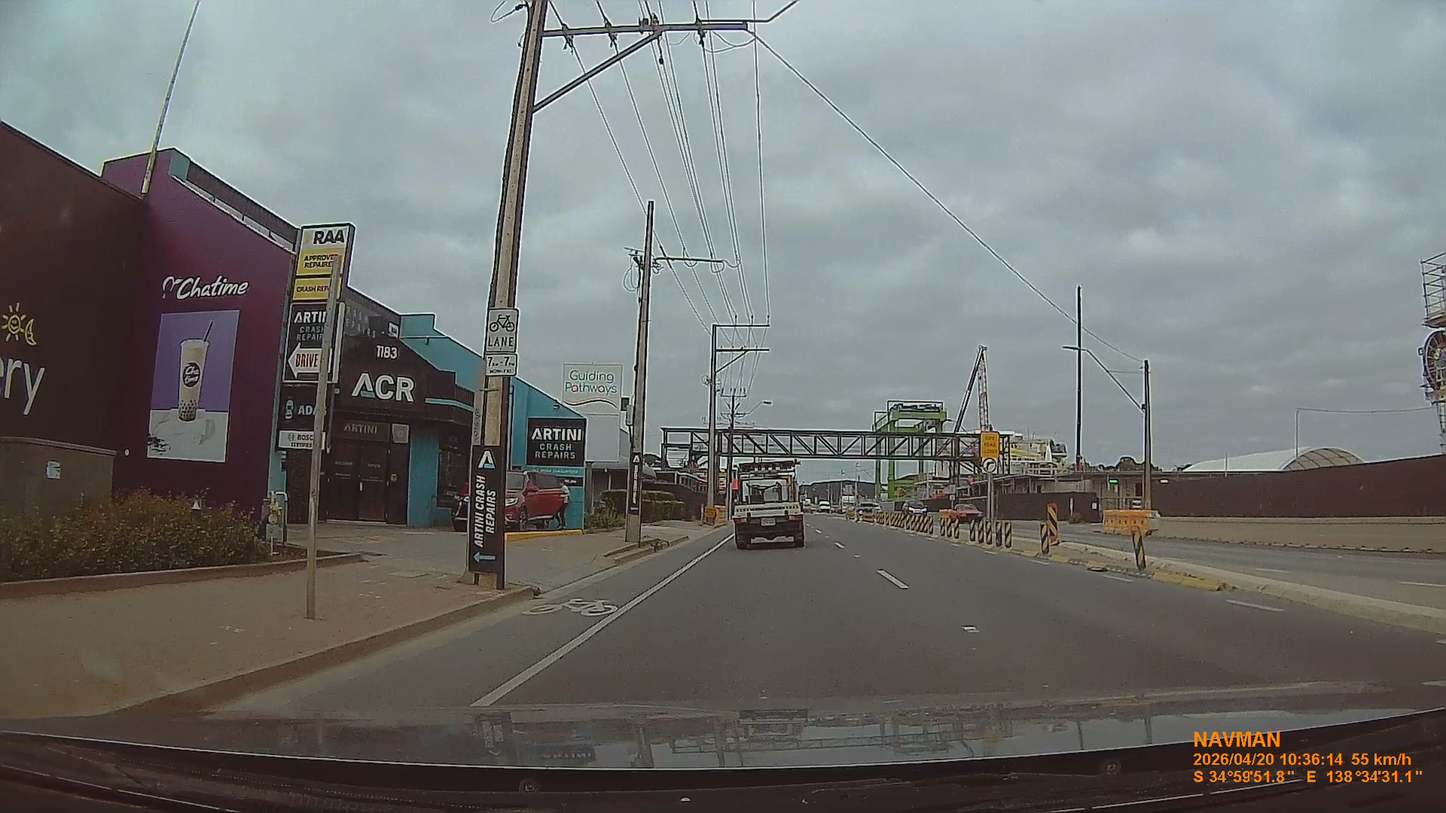fences: (1152, 455, 1445, 517), (926, 475, 1143, 523)
road barriers: (1146, 558, 1445, 644), (886, 508, 1011, 547), (1103, 510, 1159, 534), (1132, 531, 1146, 571)
